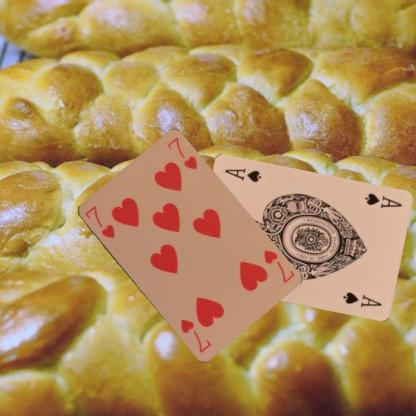7h: (260, 247, 296, 285), (82, 203, 116, 240)
As: (362, 191, 403, 210)
